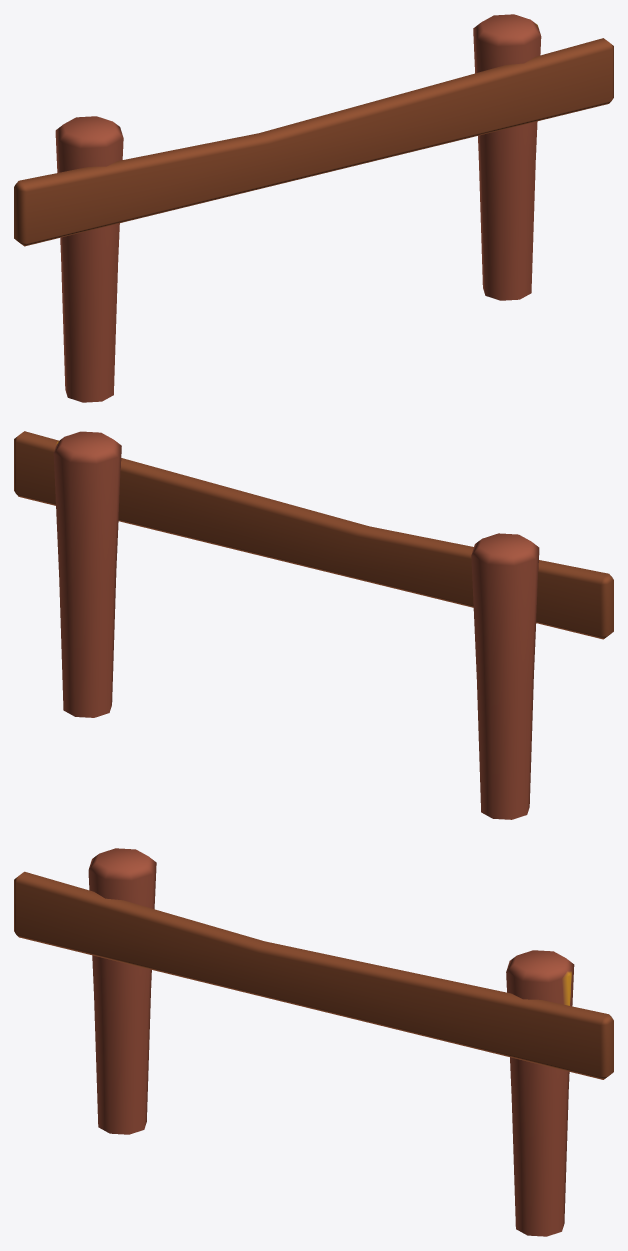
The model's file is Fence.fbx.
3 renders of one model, top to bottom at view 1: azimuth 30°, elevation 25°; view 2: azimuth 150°, elevation 25°; view 3: azimuth 330°, elevation 25°, orthographic.
Visible parts, largest first — view 1: Fence; view 2: Fence; view 3: Fence.
Part boxes in pixels (left/top/right/bottom): Fence: left=14, top=14, right=613, bottom=402; Fence: left=14, top=431, right=613, bottom=819; Fence: left=14, top=848, right=613, bottom=1236.
Bounding box in the file's own units: 85.02 × 36.25 × 9.85.
